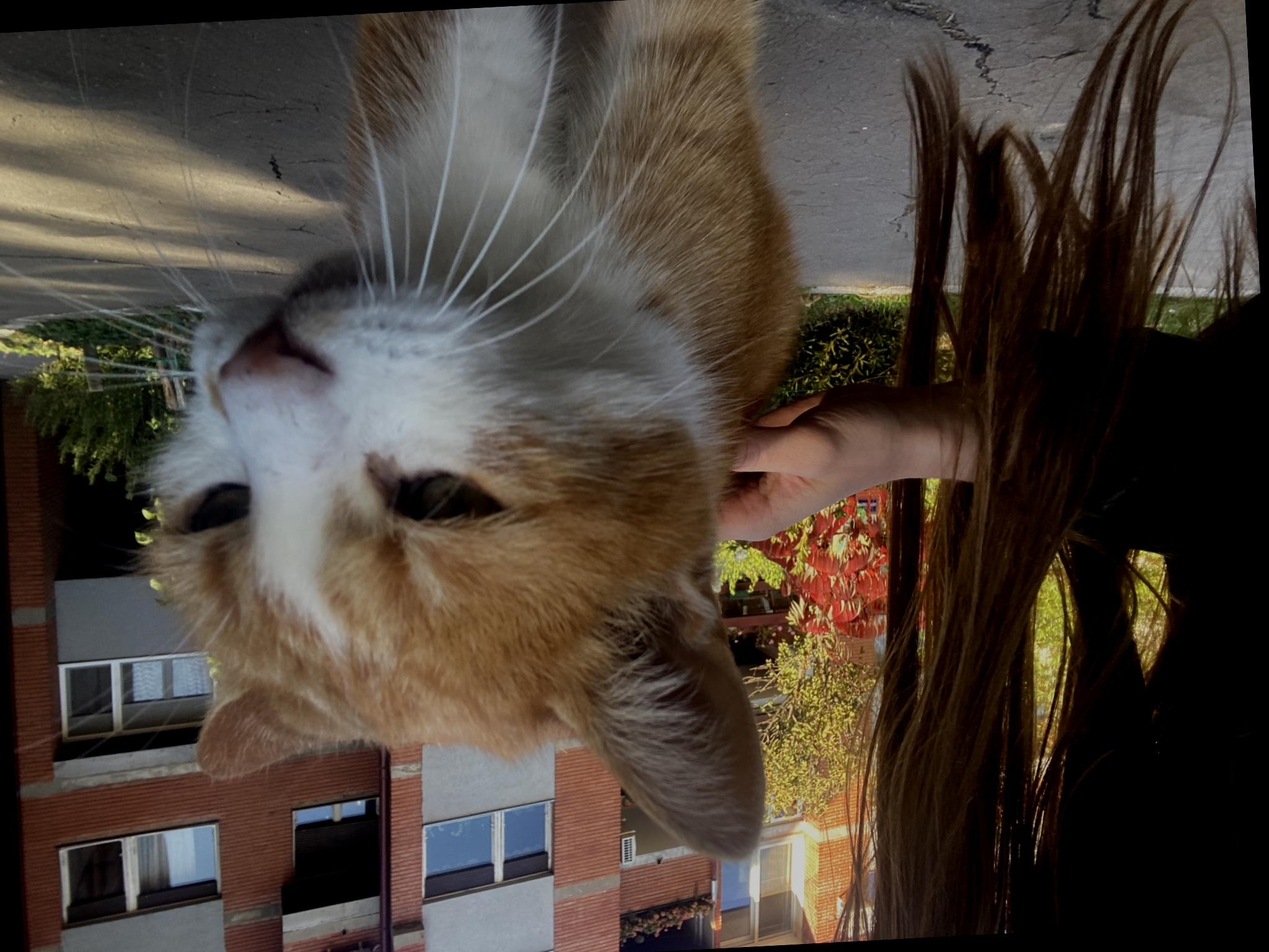macka: (118, 0, 830, 892)
